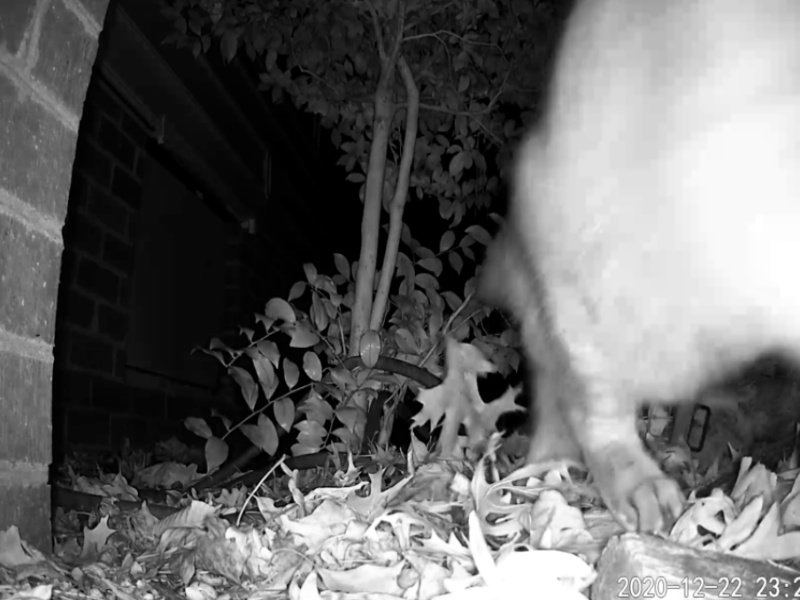cat: (487, 7, 800, 546)
